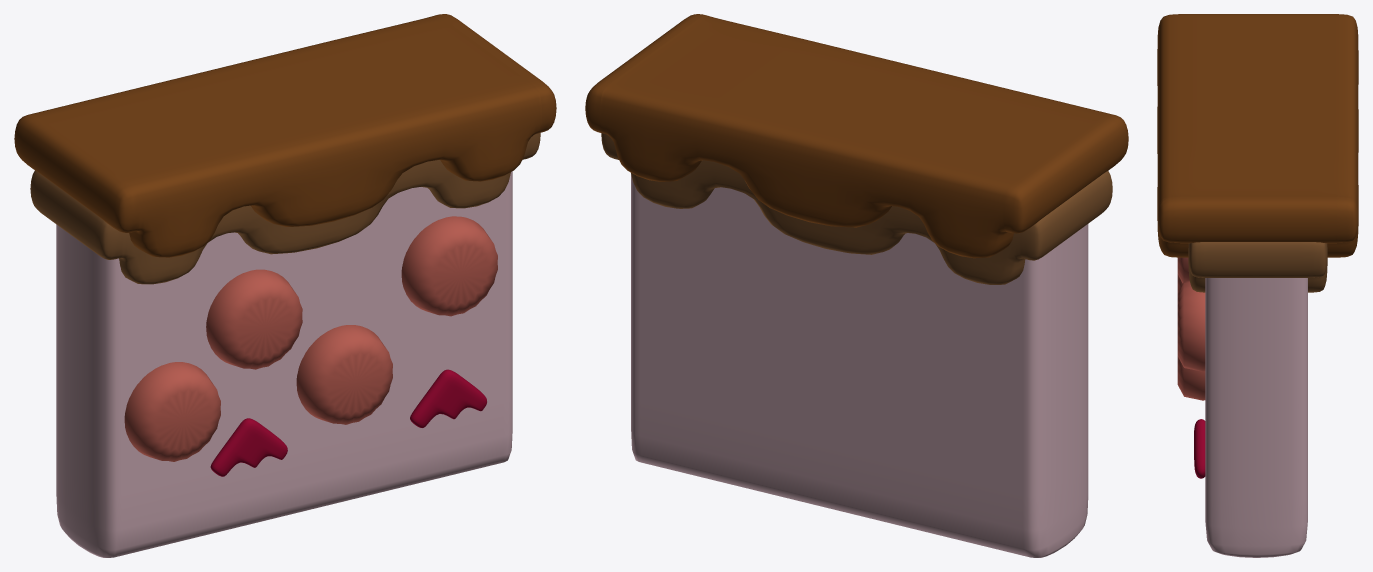
The model's file is Terrain5.fbx.
The picture shows the model from 3 angles, left to right: view 1: azimuth 30°, elevation 25°; view 2: azimuth 150°, elevation 25°; view 3: azimuth 270°, elevation 25°; orthographic projection. The views are drawn at different scales.
Parts seen in each view (by area): view 1: Terrain5, Terrain5_Middle, Terrain5_Middle_L, Terrain5_Top_2_L, Terrain5_Top_1_L, Terrain5_Middle_R, Terrain5_Top_2_R; view 2: Terrain5_Middle, Terrain5, Terrain5_Middle_L, Terrain5_Top_2_L, Terrain5_Top_1_L, Terrain5_Middle_R, Terrain5_Top_2_R; view 3: Terrain5, Terrain5_Middle_R, Terrain5_Top_2_R, Terrain5_Top_1_R, Terrain5_Top_2_L.
Boxes of the visible parts, x1,y1,x2,y2 form: Terrain5: (32, 15, 541, 476); Terrain5_Middle: (118, 187, 503, 556); Terrain5_Middle_L: (56, 224, 121, 557); Terrain5_Top_2_L: (14, 114, 139, 232); Terrain5_Top_1_L: (30, 170, 122, 259); Terrain5_Middle_R: (500, 171, 512, 463); Terrain5_Top_2_R: (435, 14, 556, 132); Terrain5_Middle: (640, 187, 1025, 556); Terrain5: (600, 15, 1109, 284); Terrain5_Middle_L: (1023, 224, 1088, 557); Terrain5_Top_2_L: (1004, 114, 1128, 233); Terrain5_Top_1_L: (1020, 171, 1112, 260); Terrain5_Middle_R: (631, 174, 643, 462); Terrain5_Top_2_R: (585, 14, 706, 133); Terrain5: (1157, 17, 1358, 478); Terrain5_Middle_R: (1205, 278, 1307, 557); Terrain5_Top_2_R: (1157, 196, 1358, 243); Terrain5_Top_1_R: (1188, 242, 1327, 277); Terrain5_Top_2_L: (1157, 14, 1358, 36).
Size of the model in its own units: 45.27 by 39.08 by 19.69.
